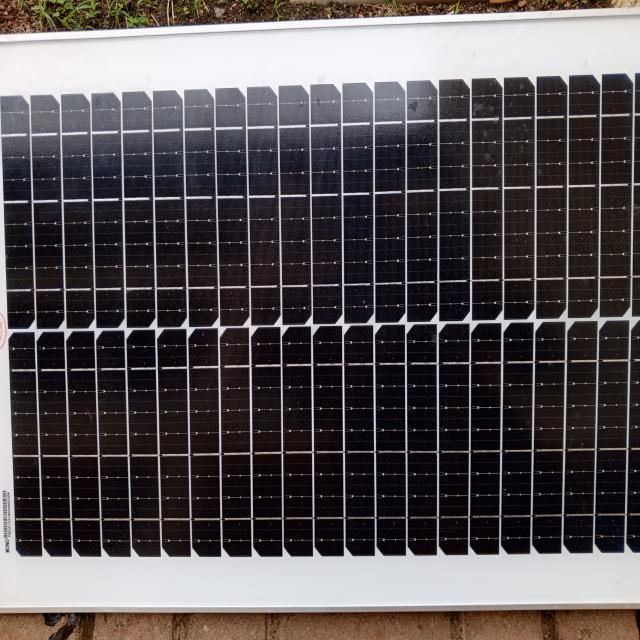Clean: (1, 62, 640, 571)
